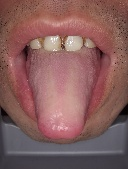tongue: (24, 53, 102, 140)
